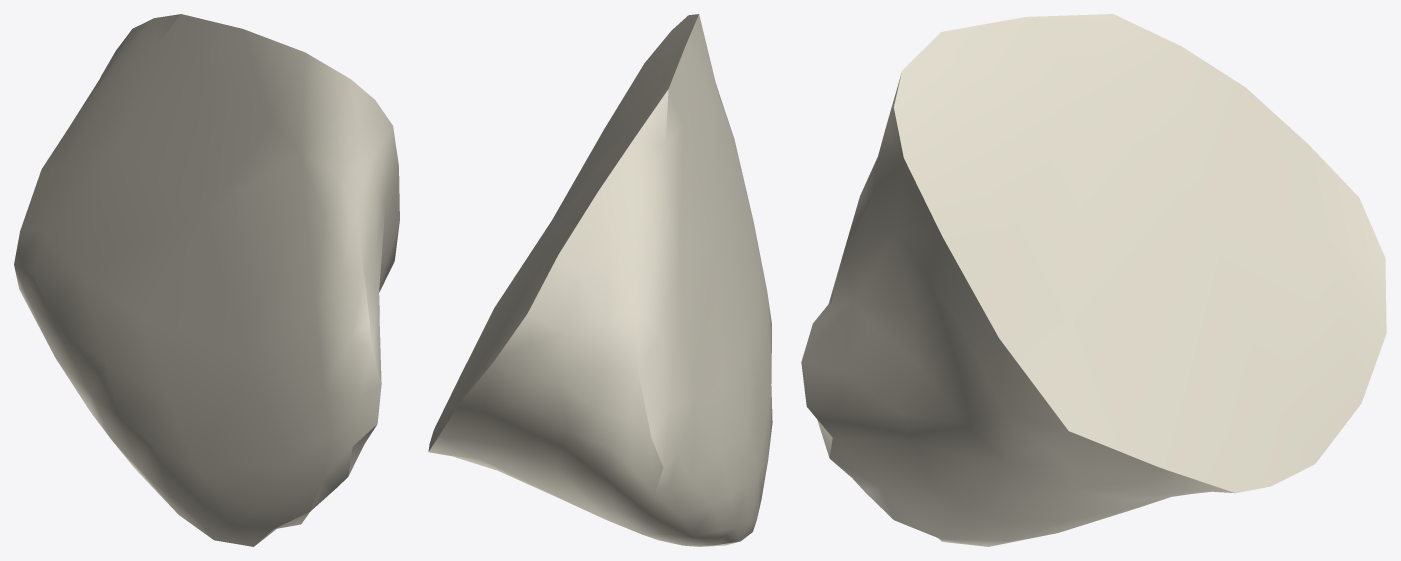
File: fma12122_mm2390m.glb
3 views of the same model, side by side, from view 1: azimuth 30°, elevation 25°; view 2: azimuth 150°, elevation 25°; view 3: azimuth 270°, elevation 25° (orthographic). The views are drawn at different scales.
Visible parts, largest first — view 1: FMA12122_MM2390M; view 2: FMA12122_MM2390M; view 3: FMA12122_MM2390M.
Part boxes in pixels (left/top/right/bottom): FMA12122_MM2390M: left=14, top=14, right=399, bottom=546; FMA12122_MM2390M: left=428, top=14, right=772, bottom=546; FMA12122_MM2390M: left=801, top=14, right=1386, bottom=546.
Size of the model in its own units: 0.00689 by 0.0117 by 0.0114.
